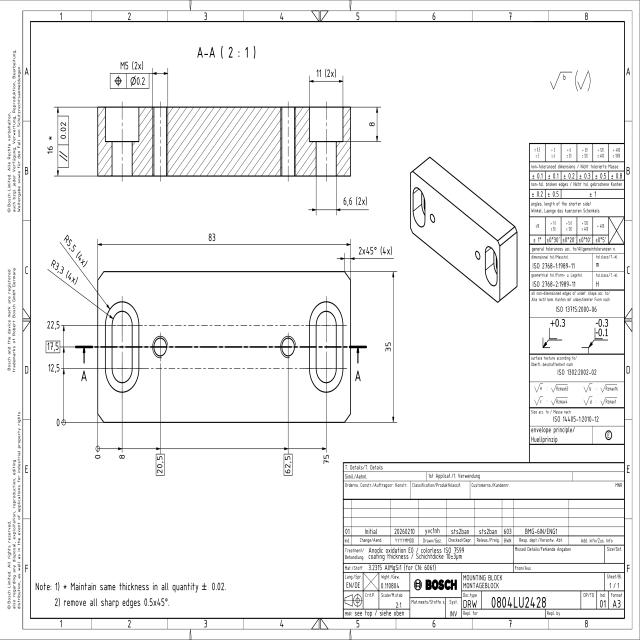dimension: (61, 231, 89, 269), (49, 256, 80, 287), (357, 244, 393, 256), (118, 58, 145, 72), (342, 195, 368, 207), (315, 66, 337, 80), (155, 452, 165, 477), (283, 452, 293, 477), (45, 134, 55, 157), (45, 340, 61, 353), (46, 318, 60, 331), (46, 362, 60, 374), (207, 231, 217, 243), (384, 340, 392, 353), (322, 454, 330, 466), (55, 416, 61, 428), (368, 119, 375, 128), (93, 454, 102, 461), (118, 454, 126, 461)
